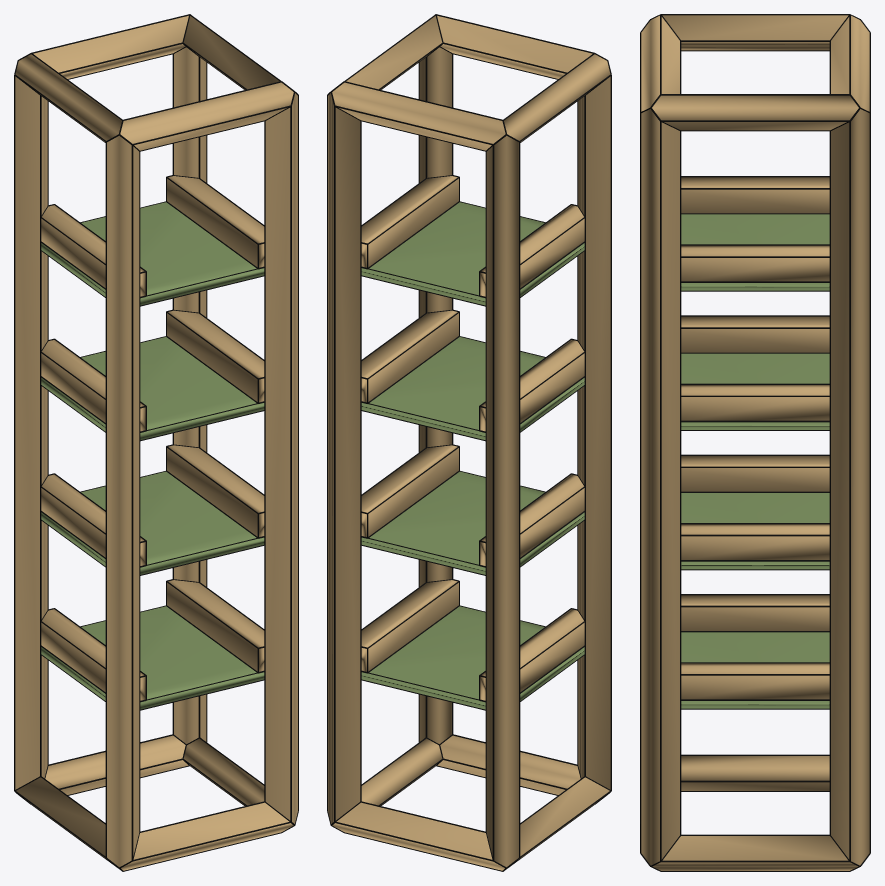
Rendered from bibliotheque-300.glb.
3 views of the same model, side by side, from view 1: azimuth 30°, elevation 25°; view 2: azimuth 150°, elevation 25°; view 3: azimuth 270°, elevation 25° (orthographic). The views are drawn at different scales.
Visible parts, largest first — view 1: arete-Z0, arete-Z1, arete-Z2, tablette-plate-mod-1, tablette-plate-mod-0, tablette-plate-mod-2, tablette-plate-mod-3, arete-Z3, arete-X2, arete-wire-Z0, arete-X0, arete-X3 (+30 smaller); view 2: arete-Z2, arete-Z3, arete-Z0, tablette-plate-mod-1, tablette-plate-mod-0, tablette-plate-mod-2, tablette-plate-mod-3, arete-Z1, arete-X3, arete-X1, arete-wire-Z2, arete-X2 (+32 smaller); view 3: arete-Z1, arete-Z3, arete-Y3, arete-Y1, tablette-plate-mod-0, tablette-plate-mod-1, tablette-plate-mod-2, tablette-plate-mod-3, arete-Y2, tablette-traverse-right-mod-0, tablette-traverse-left-mod-2, tablette-traverse-left-mod-3 (+24 smaller).
Boxes of the visible parts, bbox=[...] form: arete-Z0: bbox=[107, 135, 139, 867]; arete-Z1: bbox=[265, 93, 297, 823]; arete-Z2: bbox=[15, 76, 47, 789]; tablette-plate-mod-1: bbox=[41, 471, 264, 574]; tablette-plate-mod-0: bbox=[41, 606, 264, 709]; tablette-plate-mod-2: bbox=[41, 337, 264, 439]; tablette-plate-mod-3: bbox=[41, 202, 264, 305]; arete-Z3: bbox=[174, 47, 206, 743]; arete-X2: bbox=[120, 82, 293, 150]; arete-wire-Z0: bbox=[105, 134, 140, 861]; arete-X0: bbox=[121, 802, 293, 870]; arete-X3: bbox=[33, 15, 188, 78]; arete-Z2: bbox=[486, 135, 518, 867]; arete-Z3: bbox=[328, 93, 360, 823]; arete-Z0: bbox=[578, 76, 610, 789]; tablette-plate-mod-1: bbox=[361, 471, 584, 574]; tablette-plate-mod-0: bbox=[361, 606, 584, 709]; tablette-plate-mod-2: bbox=[361, 337, 584, 439]; tablette-plate-mod-3: bbox=[361, 202, 584, 305]; arete-Z1: bbox=[419, 47, 451, 743]; arete-X3: bbox=[332, 82, 505, 150]; arete-X1: bbox=[332, 802, 504, 870]; arete-wire-Z2: bbox=[485, 134, 520, 861]; arete-X2: bbox=[437, 15, 592, 78]; arete-Z1: bbox=[641, 109, 679, 865]; arete-Z3: bbox=[831, 109, 869, 865]; arete-Y3: bbox=[652, 95, 858, 130]; arete-Y1: bbox=[652, 836, 858, 870]; tablette-plate-mod-0: bbox=[681, 632, 829, 708]; tablette-plate-mod-1: bbox=[681, 493, 829, 569]; tablette-plate-mod-2: bbox=[681, 353, 829, 429]; tablette-plate-mod-3: bbox=[681, 214, 829, 290]; arete-Y2: bbox=[662, 15, 848, 50]; tablette-traverse-right-mod-0: bbox=[681, 663, 829, 699]; tablette-traverse-left-mod-2: bbox=[681, 316, 829, 352]; tablette-traverse-left-mod-3: bbox=[681, 177, 829, 213].
Size of the model in its own units: 0.3309 by 1.23 by 0.3309.
